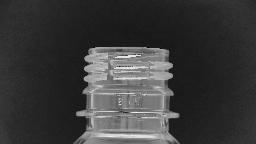No Cap: (68, 42, 186, 122)
